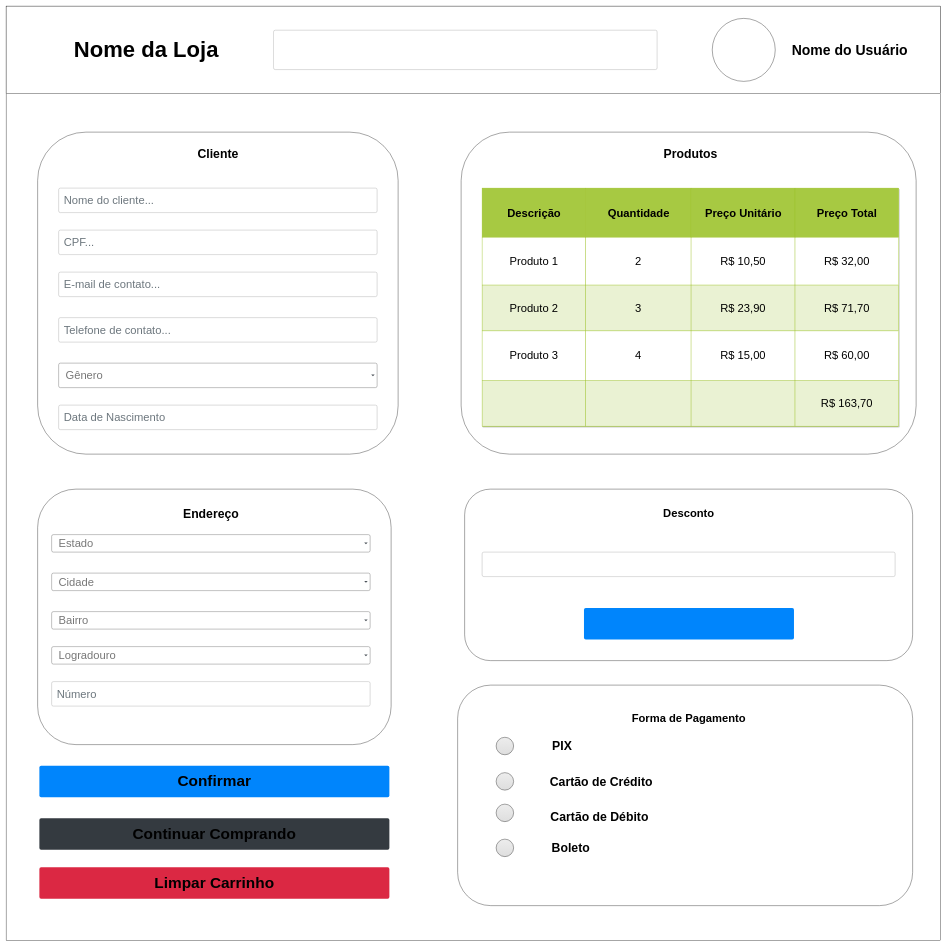
Some shapes in this 947 by 947 pixel diagram are drawn without their labels. The centre of each missing label's shape, as x and y in pixels:
"Aplicar" belongs at point 689,623.
"Caso possua algum, insira o código de seu cupom aqui..." belongs at point 688,564.
"Pesquisar..." belongs at point 465,50.
